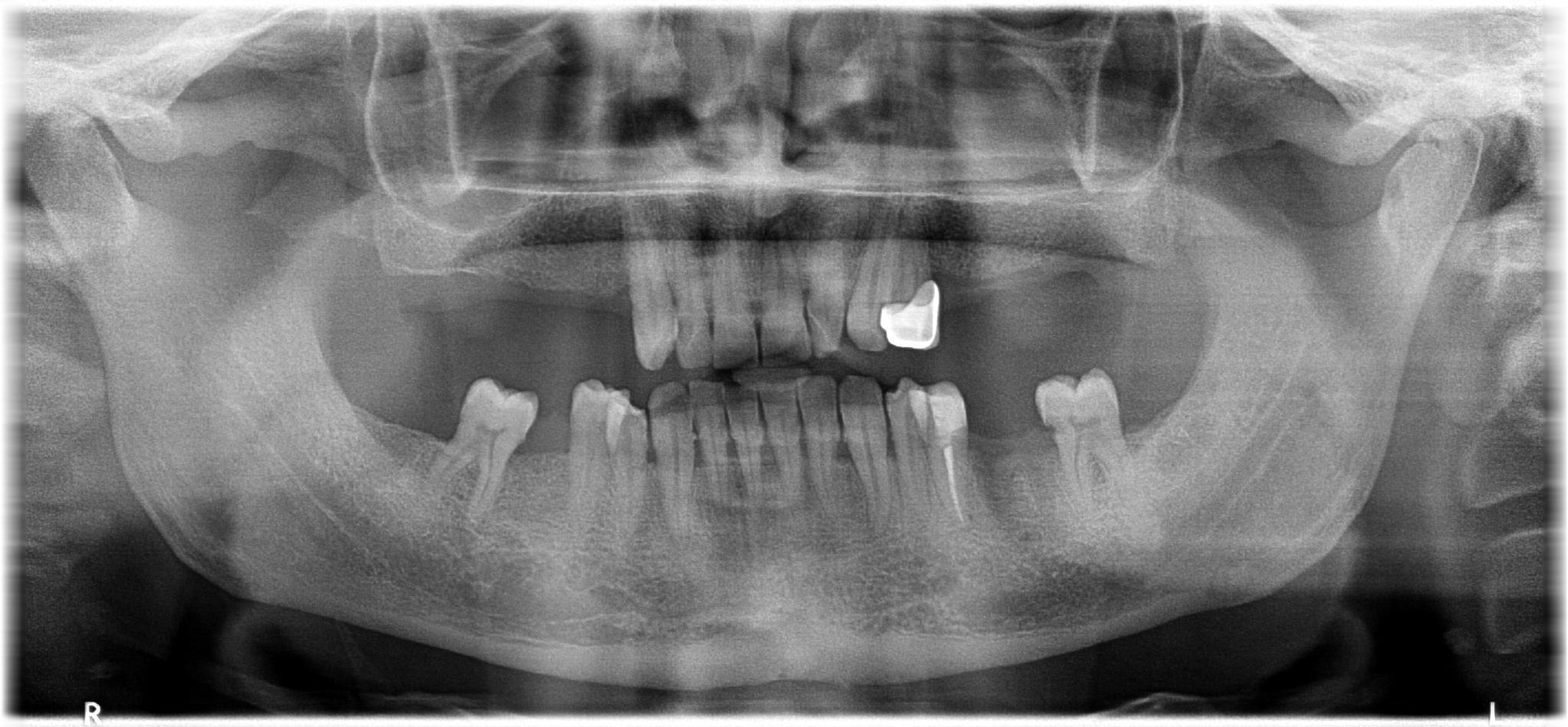Premolars: (573, 236, 1568, 674)
